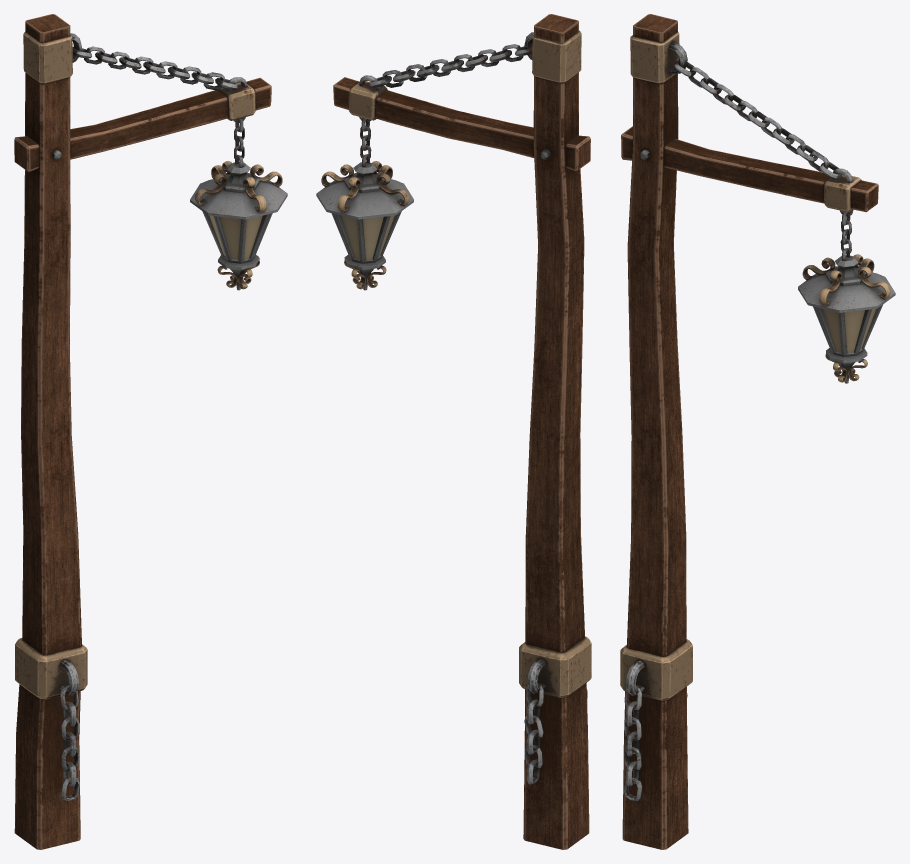
Rendered from streetlight.obj.
3 views of the same model, side by side, from view 1: azimuth 30°, elevation 25°; view 2: azimuth 150°, elevation 25°; view 3: azimuth 330°, elevation 25° (orthographic).
Parts seen in each view (by area): view 1: Cube.006_Wood_0, Cube.014_Metal1_0; view 2: Cube.006_Wood_0, Cube.014_Metal1_0; view 3: Cube.006_Wood_0, Cube.014_Metal1_0.
Part boxes in pixels (left/top/right/bottom): Cube.006_Wood_0: left=14, top=14, right=271, bottom=849; Cube.014_Metal1_0: left=15, top=32, right=287, bottom=800; Cube.006_Wood_0: left=333, top=14, right=590, bottom=849; Cube.014_Metal1_0: left=316, top=30, right=591, bottom=784; Cube.006_Wood_0: left=621, top=14, right=878, bottom=849; Cube.014_Metal1_0: left=620, top=32, right=895, bottom=801.
Bounding box in the file's own units: 0.8215 × 2.44 × 0.2915.
Materials: 2 (2 with a texture image).
